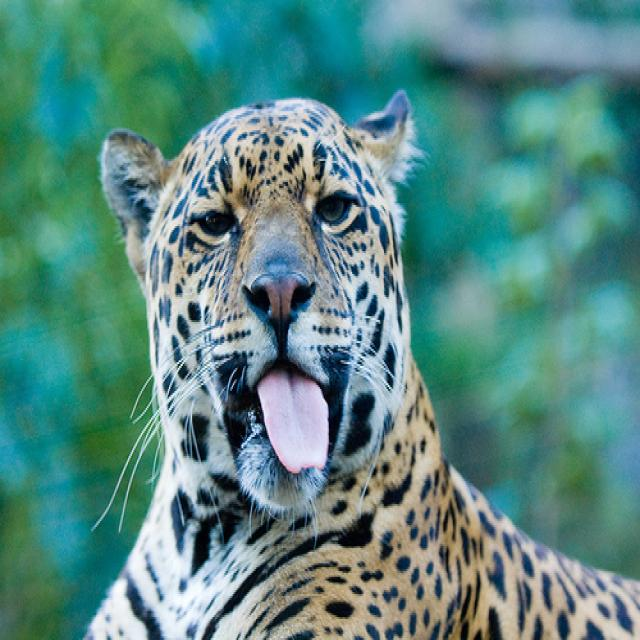Leopard: (78, 86, 638, 636)
